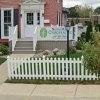stairs: (12, 38, 34, 54)
